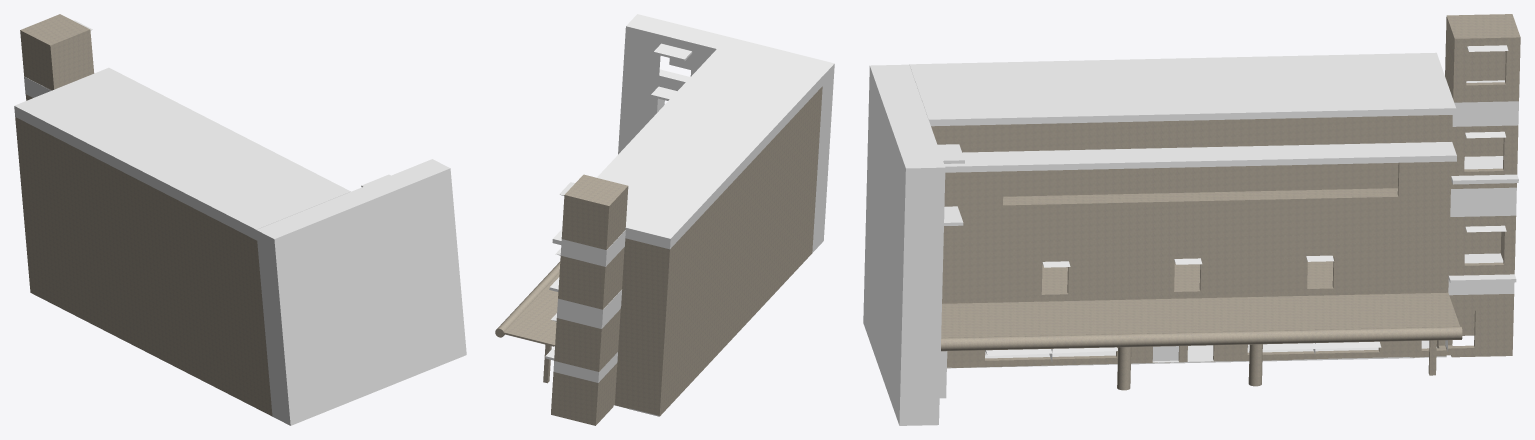
The model's file is sheares-main-rhino.gltf.
3 views of the same model, side by side, from view 1: azimuth 30°, elevation 25°; view 2: azimuth 150°, elevation 25°; view 3: azimuth 270°, elevation 25° (orthographic). The views are drawn at different scales.
Visible parts, largest first — view 1: Z_UP, Brep (×5), Extrusion (×4); view 2: Z_UP, Extrusion (×8), Brep (×5); view 3: Z_UP, Extrusion (×9), Brep (×8).
Boxes of the visible parts, box(x1,y1,x2,y2) form: Z_UP: box(15, 31, 272, 416); Brep (×5): box(256, 159, 466, 425); Extrusion (×4): box(14, 14, 350, 349); Z_UP: box(495, 86, 822, 425); Extrusion (×8): box(499, 43, 823, 380); Brep (×5): box(618, 14, 834, 252); Z_UP: box(931, 17, 1520, 390); Extrusion (×9): box(909, 14, 1520, 337); Brep (×8): box(863, 64, 1381, 425).
Size of what is drawn, in the model's own units: 28.58 by 26.27 by 49.46.
32 materials, 31 textured.
